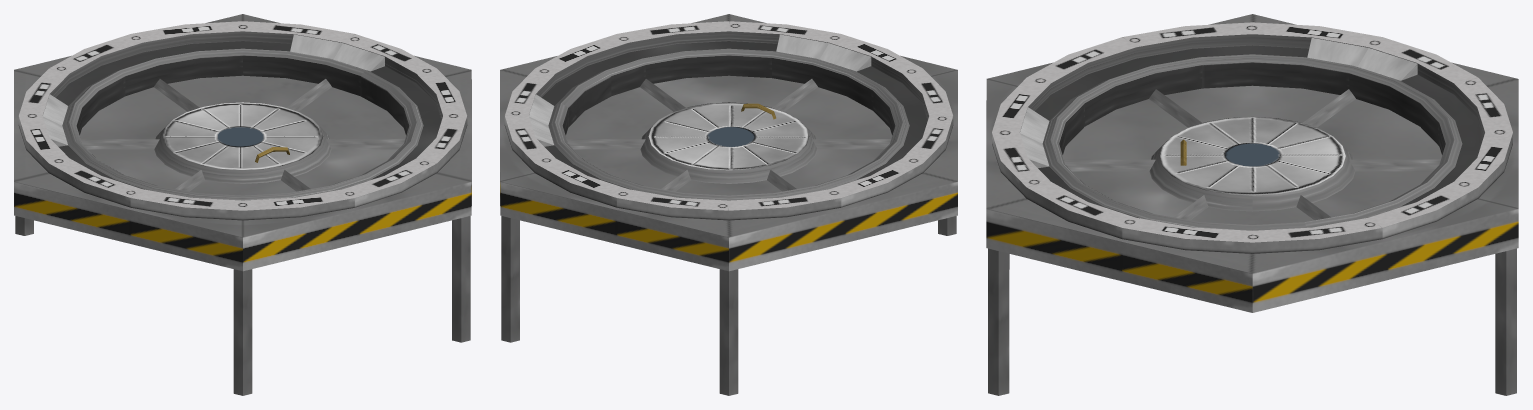
The model's file is HexPort.FBX.
The picture shows the model from 3 angles, left to right: view 1: azimuth 30°, elevation 25°; view 2: azimuth 150°, elevation 25°; view 3: azimuth 270°, elevation 25°; orthographic projection. The views are drawn at different scales.
Parts seen in each view (by area): view 1: HexPortBody, HexPortBodyOpen, GlowRing, RadialBracer001, RadialBracer002, AlignmentTool003, AlignmentTool002, Stringer002, Stringer005, Stringer004, Stringer003; view 2: HexPortBody, HexPortBodyOpen, GlowRing, RadialBracer004, RadialBracer003, AlignmentTool001, AlignmentTool003, Stringer003, Stringer006, Stringer001, Stringer002; view 3: HexPortBody, HexPortBodyOpen, GlowRing, RadialBracer003, RadialBracer002, AlignmentTool002, AlignmentTool001, Stringer001, Stringer004, Stringer005, Stringer006.
Boxes of the visible parts, left/top/right/bottom form: HexPortBody: left=14, top=14, right=471, bottom=267; HexPortBodyOpen: left=14, top=31, right=471, bottom=271; GlowRing: left=62, top=48, right=423, bottom=200; RadialBracer001: left=233, top=269, right=252, bottom=395; RadialBracer002: left=452, top=216, right=470, bottom=342; AlignmentTool003: left=290, top=34, right=384, bottom=71; AlignmentTool002: left=43, top=94, right=67, bottom=146; Stringer002: left=326, top=139, right=404, bottom=149; Stringer005: left=81, top=139, right=159, bottom=149; Stringer004: left=154, top=79, right=199, bottom=111; Stringer003: left=286, top=79, right=331, bottom=111; HexPortBody: left=500, top=14, right=957, bottom=271; HexPortBodyOpen: left=535, top=37, right=957, bottom=270; GlowRing: left=548, top=48, right=909, bottom=200; RadialBracer004: left=719, top=269, right=738, bottom=395; RadialBracer003: left=501, top=216, right=519, bottom=342; AlignmentTool001: left=776, top=34, right=871, bottom=71; AlignmentTool003: left=529, top=94, right=554, bottom=146; Stringer003: left=567, top=139, right=645, bottom=149; Stringer006: left=812, top=139, right=890, bottom=149; Stringer001: left=772, top=79, right=817, bottom=111; Stringer002: left=640, top=79, right=685, bottom=111; HexPortBody: left=986, top=14, right=1518, bottom=312; HexPortBodyOpen: left=986, top=34, right=1518, bottom=312; GlowRing: left=1042, top=54, right=1462, bottom=230; RadialBracer003: left=1495, top=248, right=1516, bottom=395; RadialBracer002: left=988, top=248, right=1009, bottom=395; AlignmentTool002: left=1307, top=38, right=1417, bottom=80; AlignmentTool001: left=1020, top=107, right=1049, bottom=168; Stringer001: left=1064, top=159, right=1155, bottom=171; Stringer004: left=1349, top=159, right=1440, bottom=171; Stringer005: left=1303, top=89, right=1355, bottom=127; Stringer006: left=1149, top=89, right=1201, bottom=127.
Size of what is drawn, in the model's own units: 2.47 by 0.8696 by 2.14.
Materials: 1 (1 with a texture image).
